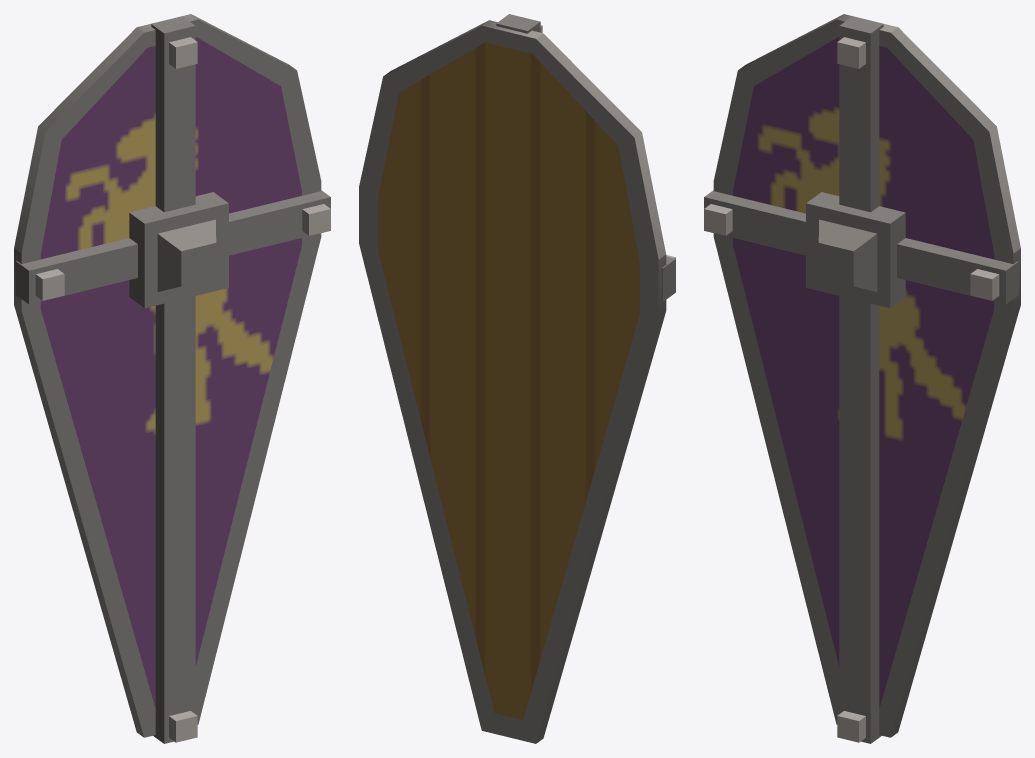
File: SF_Wep_KiteShield_Symbol_08.fbx
3 renders of one model, left to right at view 1: azimuth 30°, elevation 25°; view 2: azimuth 150°, elevation 25°; view 3: azimuth 330°, elevation 25°, orthographic.
Visible parts, largest first — view 1: SF_Wep_KiteShield_Symbol_08; view 2: SF_Wep_KiteShield_Symbol_08; view 3: SF_Wep_KiteShield_Symbol_08.
Part boxes in pixels (x1,y1,x2,y2): SF_Wep_KiteShield_Symbol_08: [14, 14, 330, 743]; SF_Wep_KiteShield_Symbol_08: [359, 14, 675, 743]; SF_Wep_KiteShield_Symbol_08: [704, 14, 1020, 743].
Bounding box in the file's own units: 0.9946 × 2.24 × 0.1992.
